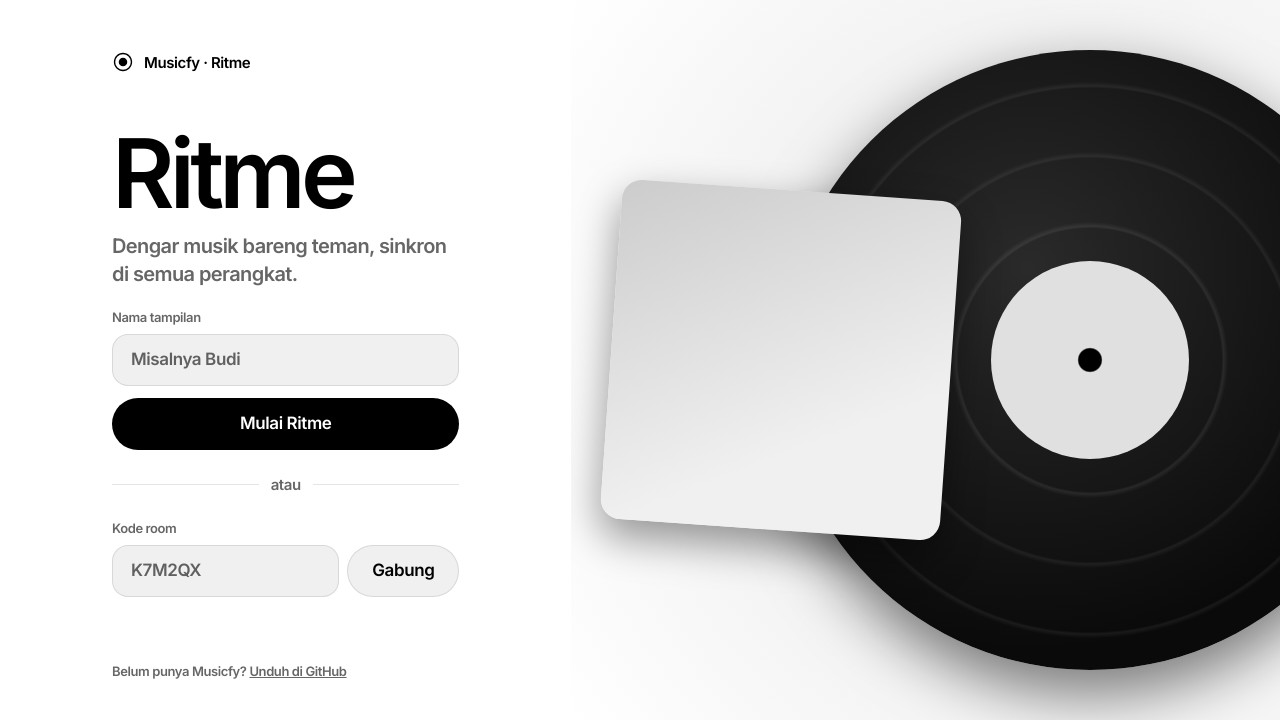
App connection states › "Coba lagi" after the connection was lost rejoins the room it was in
The width and height of the screenshot is (1280, 720).
Later steps or results of the test are not shown.
In the field labelled "Nama tampilan": coordinates (286, 360) [112,334,459,386], type "Budi"
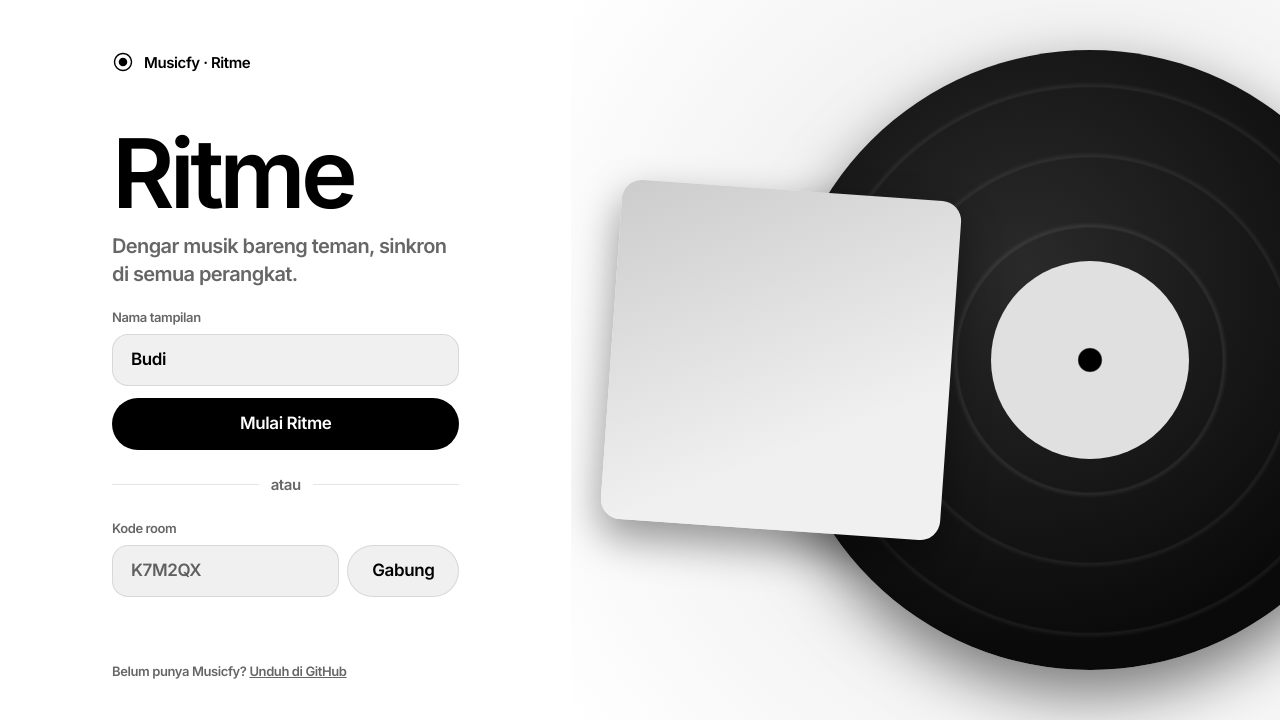
Click the button "Mulai Ritme": coordinates (286, 424) [112,398,459,450]
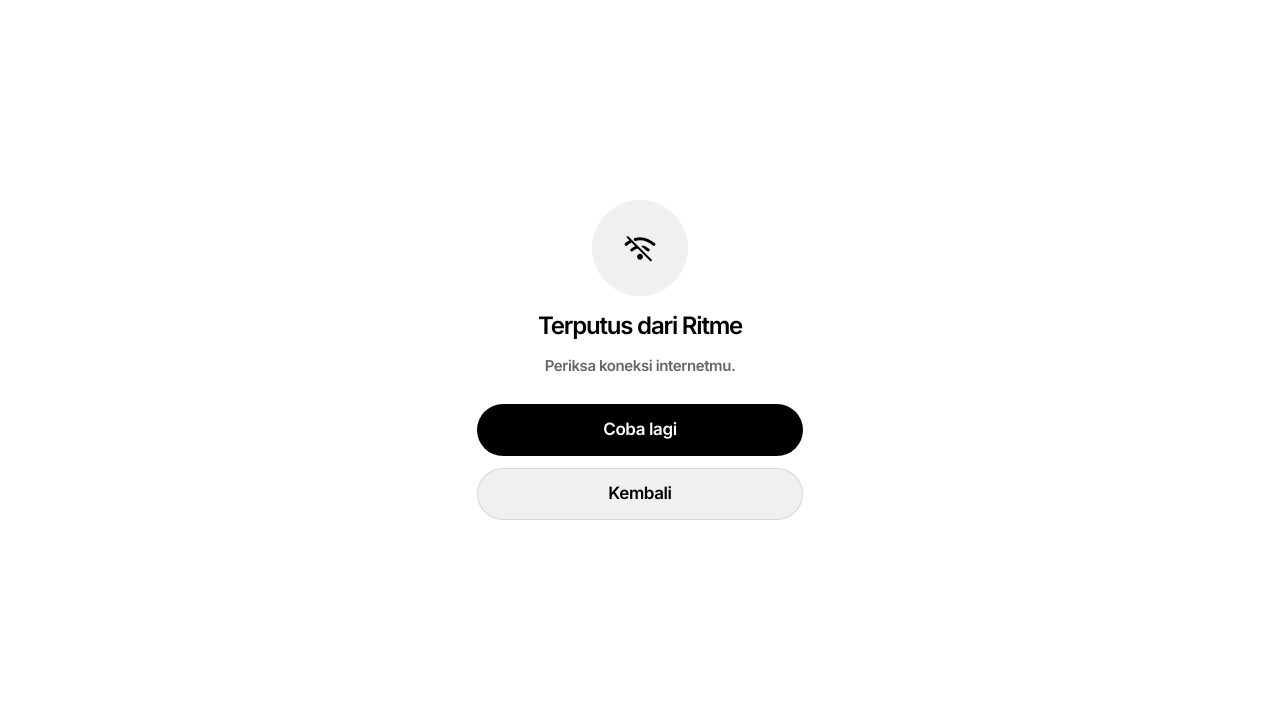
Now the heading reads "Terputus dari Ritme", box [538,311,742,340]
